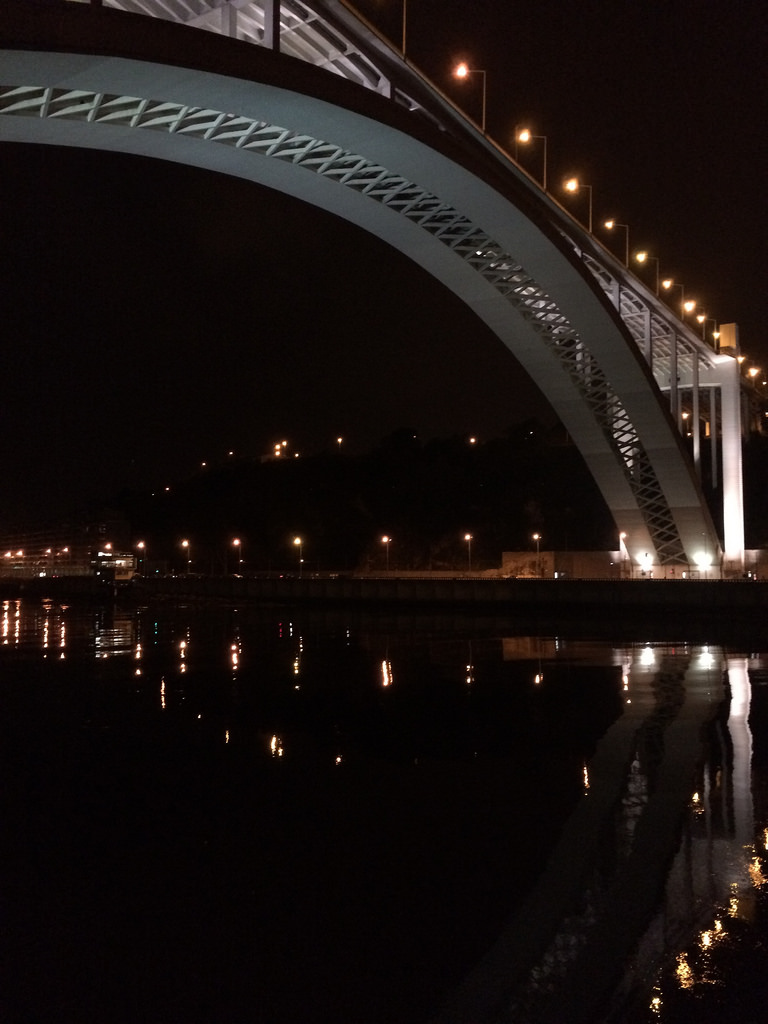arrabida: (0, 0, 767, 578)
